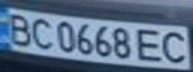0: (51, 19, 78, 54)
6: (90, 24, 115, 58), (72, 21, 96, 56)
8: (112, 25, 136, 61)
B: (3, 10, 36, 46)
C: (157, 28, 193, 64), (24, 16, 57, 51)
E: (133, 27, 166, 64)
